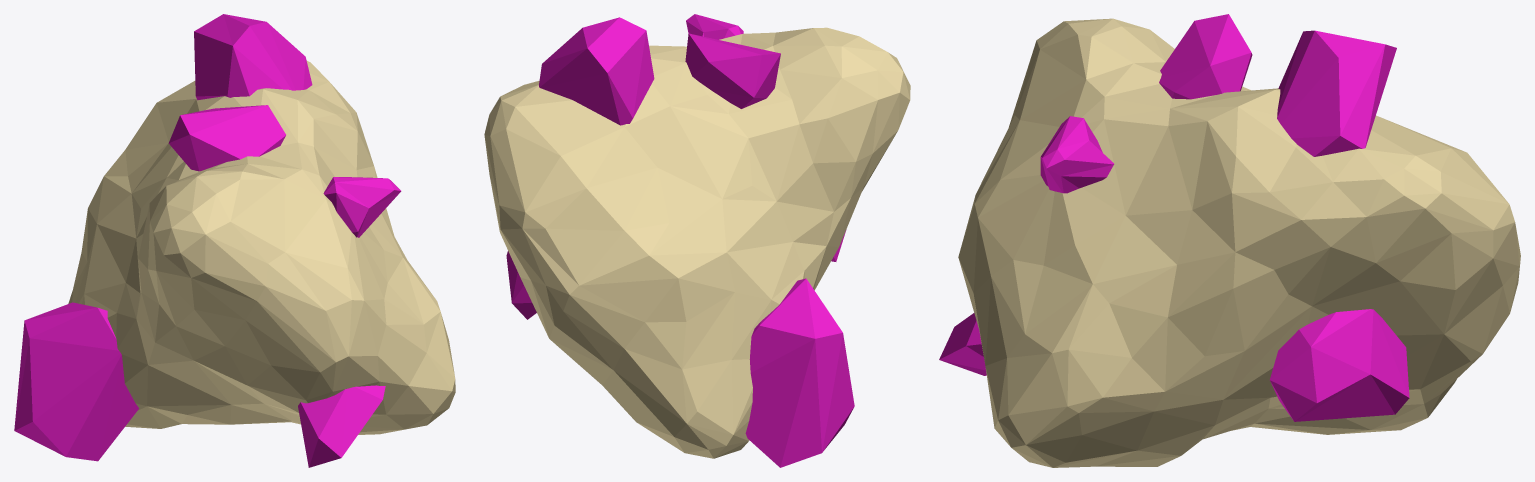
Rendered from CrystalOre (39).fbx.
3 renders of one model, left to right at view 1: azimuth 30°, elevation 25°; view 2: azimuth 150°, elevation 25°; view 3: azimuth 270°, elevation 25°, orthographic. The views are drawn at different scales.
Parts seen in each view (by area): view 1: Asteroid259; view 2: Asteroid259; view 3: Asteroid259.
Boxes of the visible parts, x1,y1,x2,y2 form: Asteroid259: [14, 14, 455, 467]; Asteroid259: [484, 14, 910, 467]; Asteroid259: [939, 14, 1520, 467].
Bounding box in the file's own units: 158 × 173 × 198.
